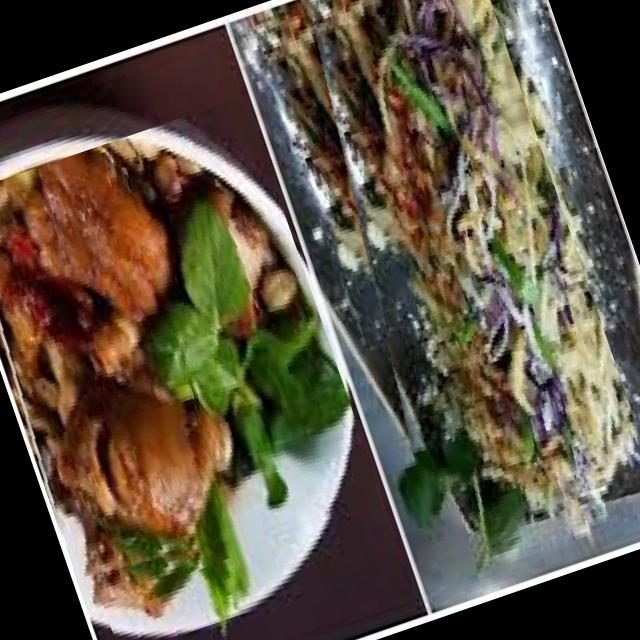Organic: (246, 0, 640, 570), (0, 94, 382, 603), (100, 553, 256, 640)
